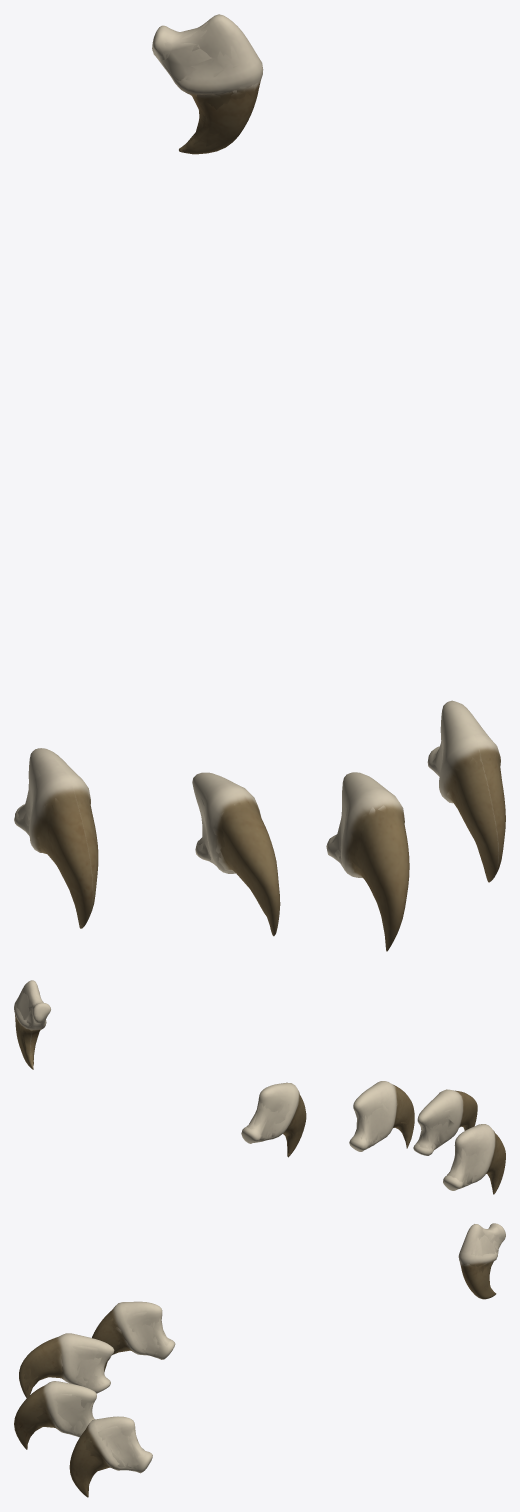
File: FR 3rd Phalanx.fbx
3 views of the same model, one above another, from view 1: azimuth 30°, elevation 25°; view 2: azimuth 150°, elevation 25°; view 3: azimuth 270°, elevation 25° (orthographic). The views are drawn at different scales.
Visible parts, largest first — view 1: FR 3rd Phalanx high, FR 3rd Phalanx, FR 3rd Phalanx low; view 2: FR 3rd Phalanx high, FR 3rd Phalanx low, FR 3rd Phalanx; view 3: FR 3rd Phalanx high, FR 3rd Phalanx low, FR 3rd Phalanx.
Part boxes in pixels (x1=…): FR 3rd Phalanx high: x1=14, y1=14, x2=505, y2=951; FR 3rd Phalanx: x1=23, y1=21, x2=501, y2=931; FR 3rd Phalanx low: x1=17, y1=27, x2=500, y2=925; FR 3rd Phalanx high: x1=14, y1=980, x2=505, y2=1194; FR 3rd Phalanx low: x1=15, y1=990, x2=498, y2=1191; FR 3rd Phalanx: x1=15, y1=986, x2=503, y2=1191; FR 3rd Phalanx high: x1=14, y1=1223, x2=505, y2=1497; FR 3rd Phalanx low: x1=20, y1=1227, x2=500, y2=1493; FR 3rd Phalanx: x1=19, y1=1226, x2=502, y2=1491.
Size of the model in its own units: 11.06 by 10.92 by 16.29.
1 material, 1 textured.
